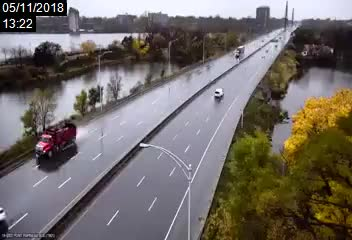personal_car: (213, 87, 225, 100)
truck: (36, 123, 76, 160)
